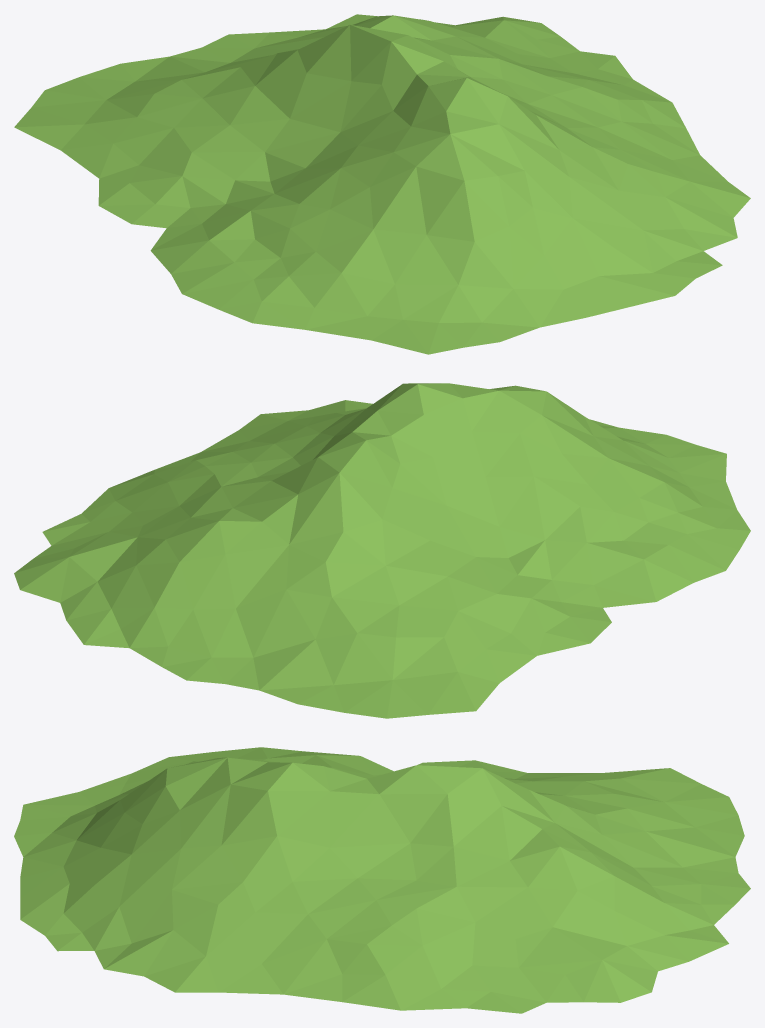
The model's file is MT_Mountain_M_a_21.fbx.
3 views of the same model, one above another, from view 1: azimuth 30°, elevation 25°; view 2: azimuth 150°, elevation 25°; view 3: azimuth 270°, elevation 25° (orthographic). The views are drawn at different scales.
Visible parts, largest first — view 1: MT_Mountain_M_a_21; view 2: MT_Mountain_M_a_21; view 3: MT_Mountain_M_a_21.
Boxes of the visible parts, x1,y1,x2,y2 form: MT_Mountain_M_a_21: [14, 14, 750, 354]; MT_Mountain_M_a_21: [14, 383, 750, 718]; MT_Mountain_M_a_21: [14, 747, 750, 1013].
Size of the model in its own units: 3985 by 878 by 4648.
